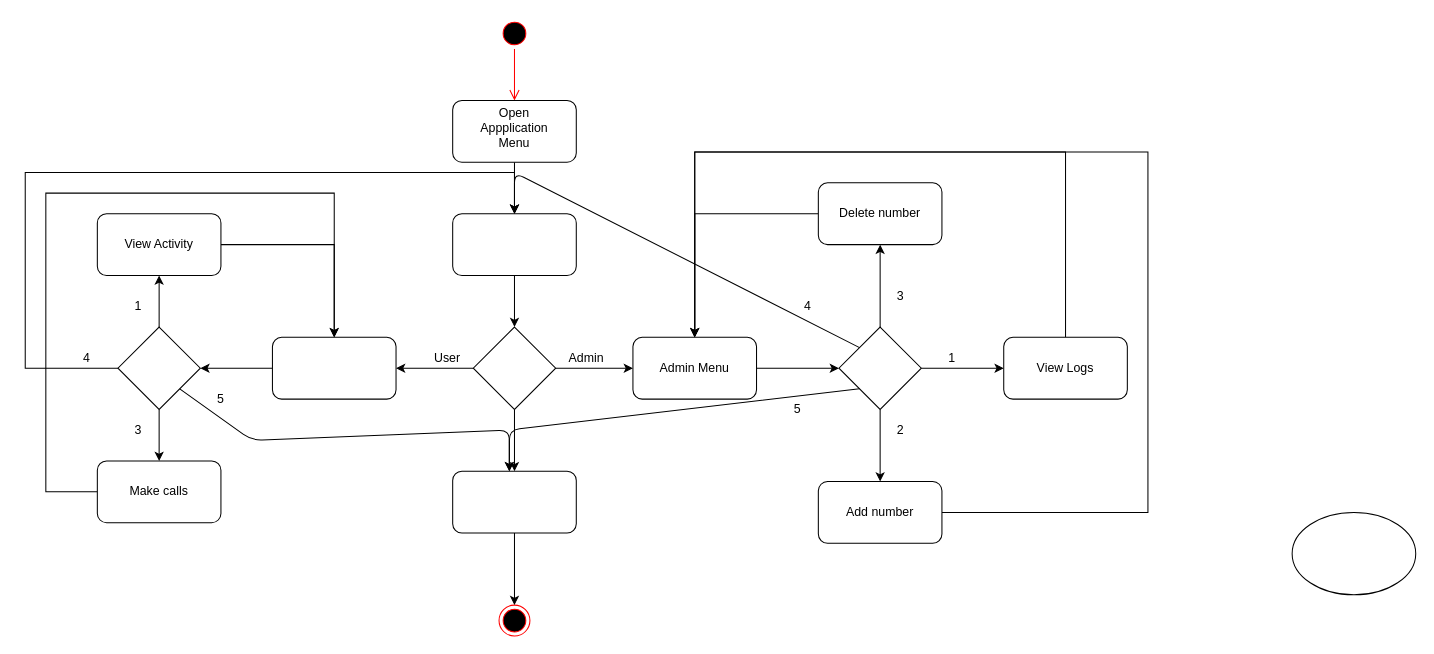
This 1434x654 diagram has some shape labels left out. The centre of each missing label's shape, as x and y in pixels:
"Exit" goes at (514,501).
"Login" goes at (514,244).
"User Menu" goes at (333,367).
